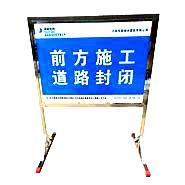sign: (34, 23, 143, 103)
